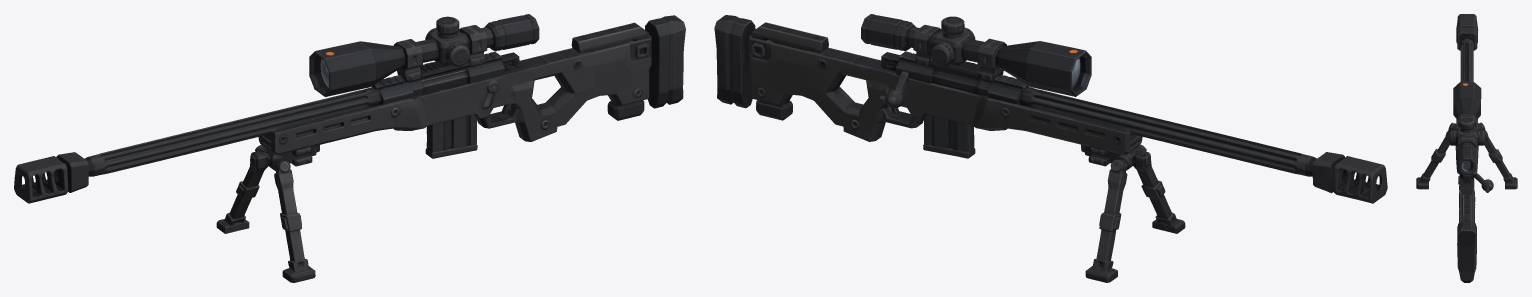
Rendered from Meshy_AI_roblox_magnum_sniper_1012115921_texture.glb.
3 views of the same model, side by side, from view 1: azimuth 30°, elevation 25°; view 2: azimuth 150°, elevation 25°; view 3: azimuth 270°, elevation 25° (orthographic). The views are drawn at different scales.
Bounding box in the file's own units: 1.9 × 0.5199 × 0.3882.
Materials: 1 (1 with a texture image).
